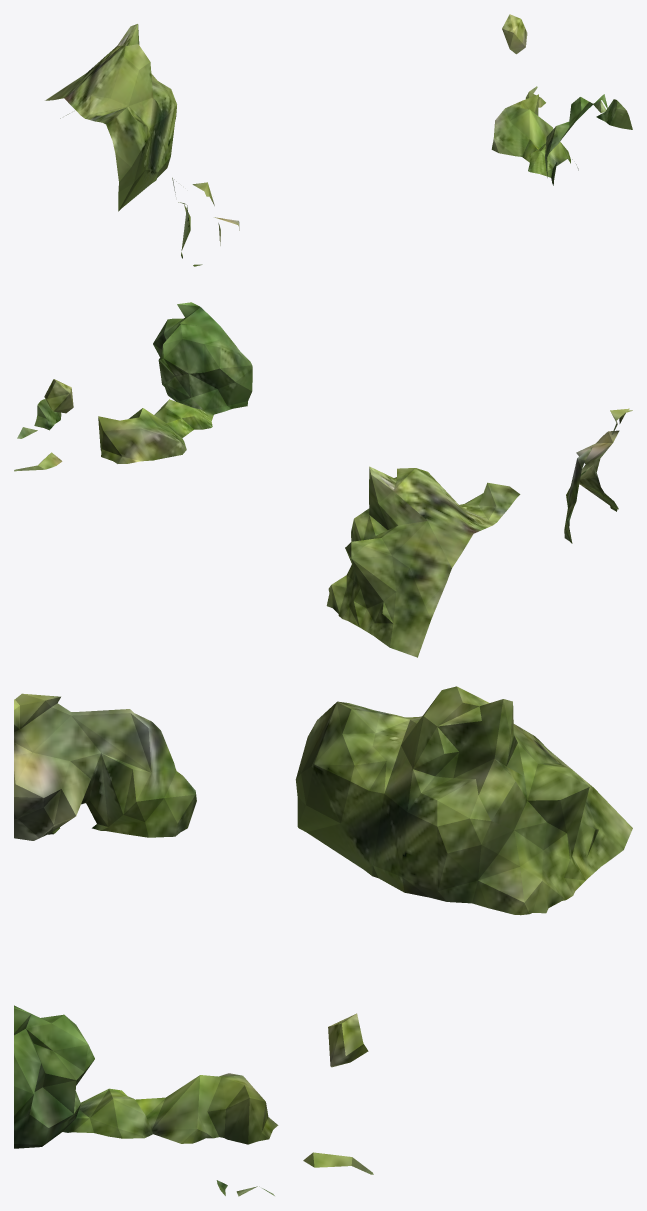
3 views of the same model, one above another, from view 1: azimuth 30°, elevation 25°; view 2: azimuth 150°, elevation 25°; view 3: azimuth 270°, elevation 25° (orthographic). The views are drawn at different scales.
Bounding box in the file's own units: 26.11 × 6.44 × 18.54.
1 material, 1 textured.
